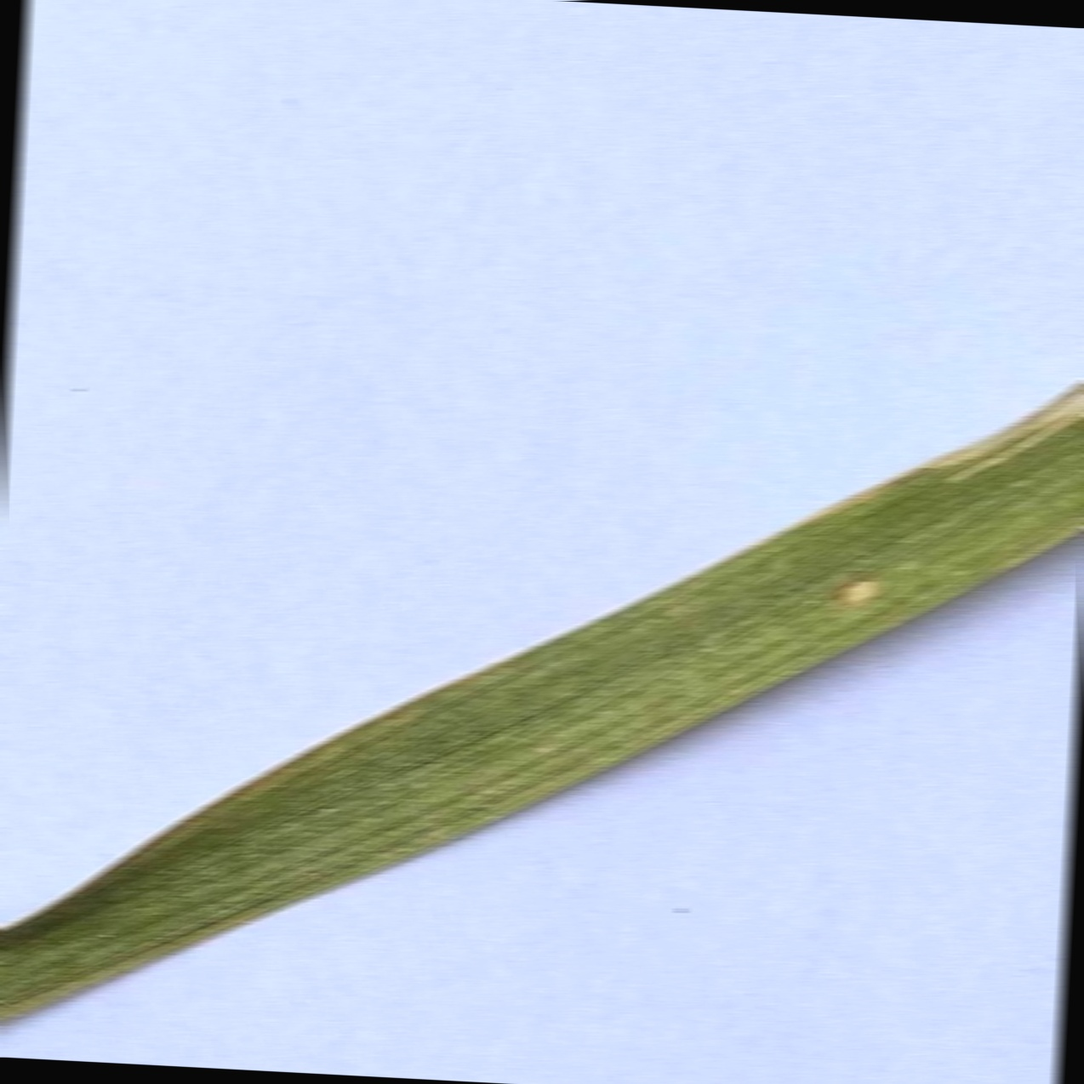Brown_Spot: (820, 545, 886, 613)
